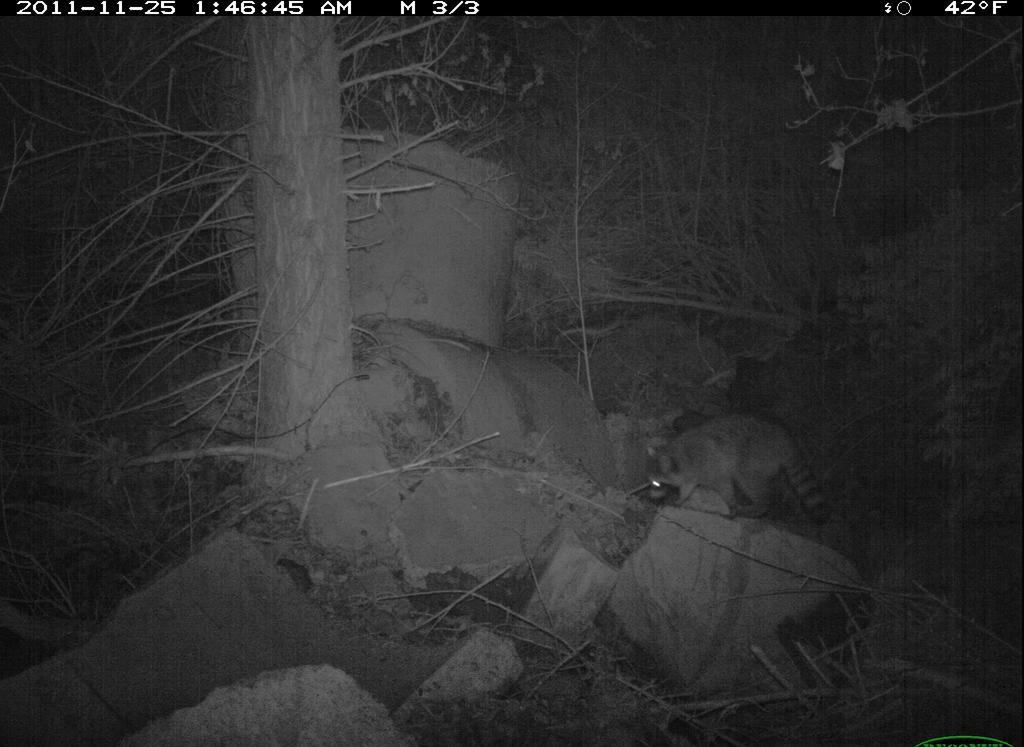raccoon: (630, 395, 850, 532)
